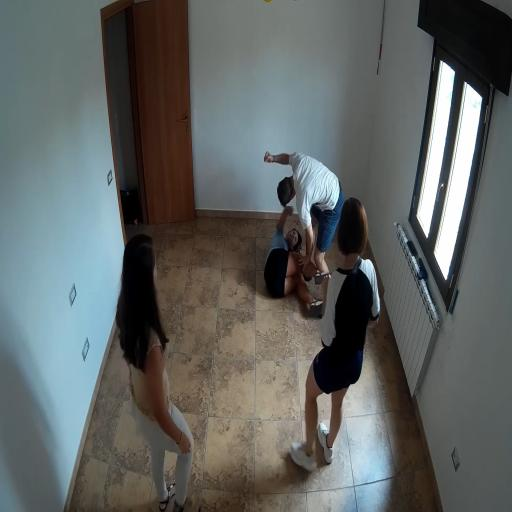violencia: (257, 129, 350, 326)
